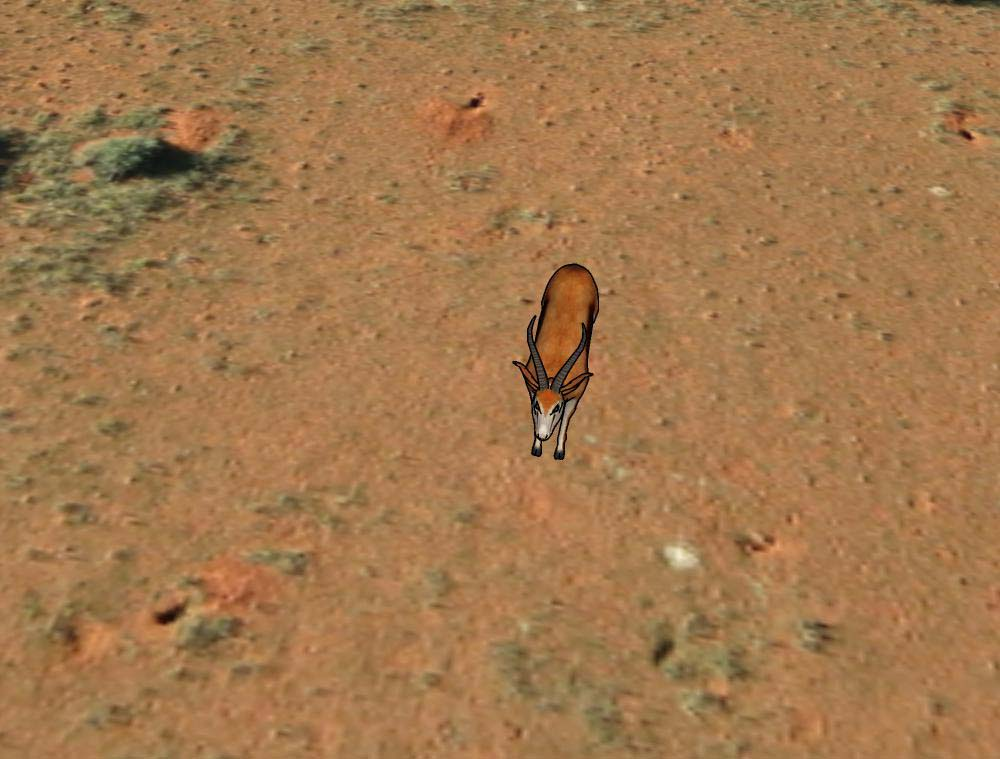springbok: (516, 254, 604, 465)
